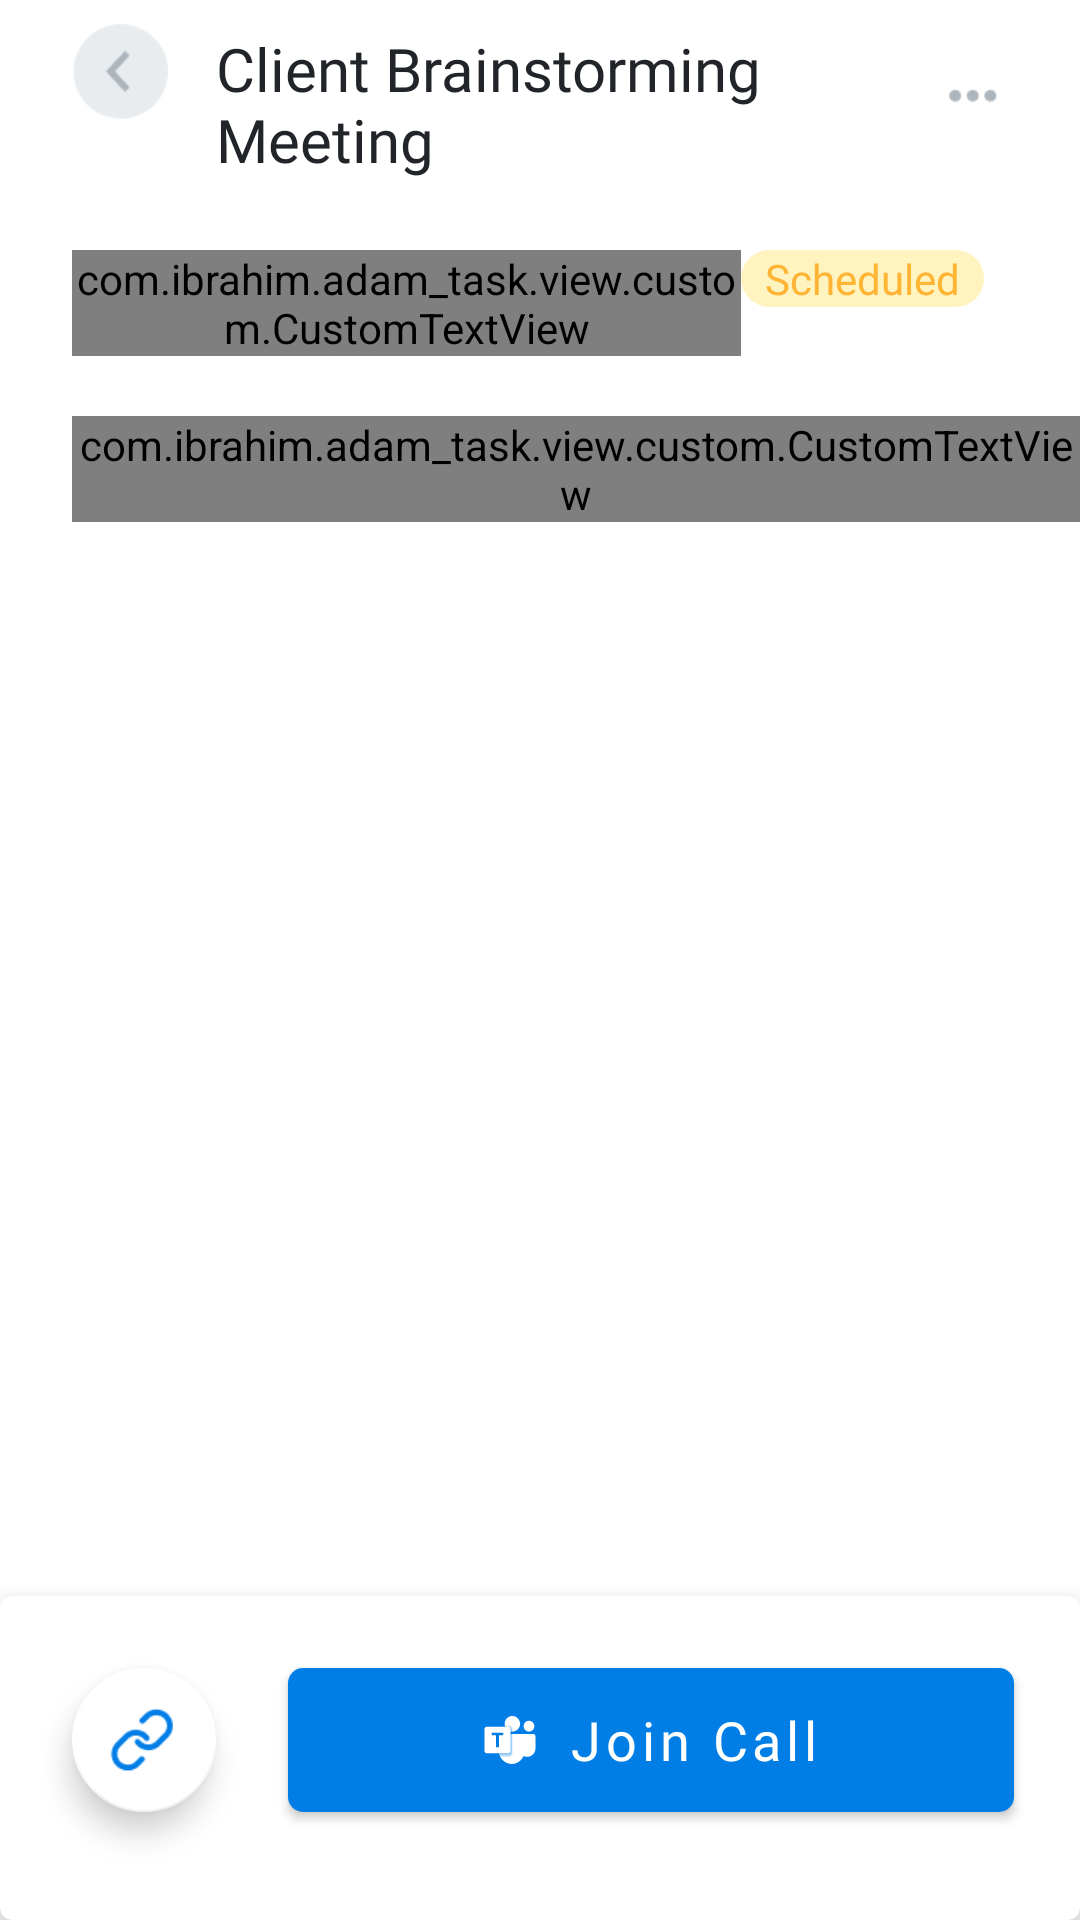

Named icons in this screenshot (1080w x 1920h) and their centers, (x,y):
back: (120,71)
link: (158,1744)
more: (973,96)
